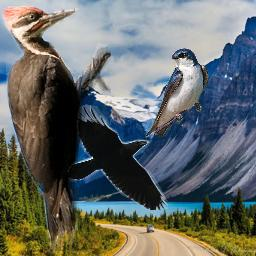Crow: (66, 104, 168, 210)
Swallow: (145, 47, 209, 138)
Woodpecker: (0, 5, 111, 253)
